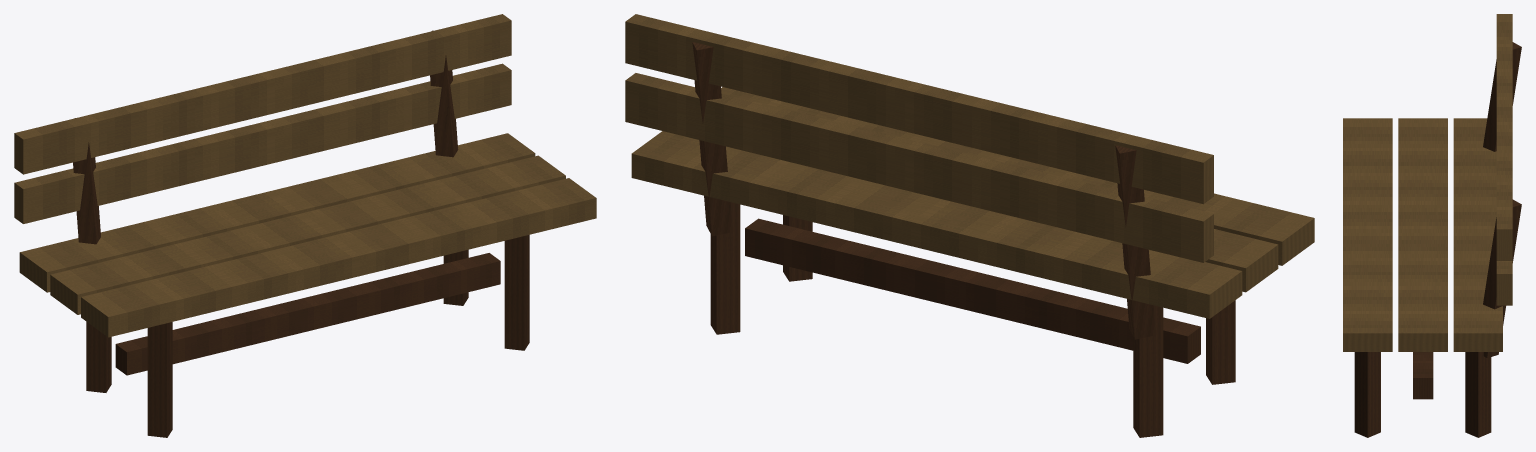
Rendered from level_camp_bench.glb.
3 renders of one model, left to right at view 1: azimuth 30°, elevation 25°; view 2: azimuth 150°, elevation 25°; view 3: azimuth 270°, elevation 25°, orthographic. The views are drawn at different scales.
Visible parts, largest first — view 1: level_camp_bench; view 2: level_camp_bench; view 3: level_camp_bench.
Part boxes in pixels (x1,y1,x2,y2): level_camp_bench: (14, 14, 596, 437); level_camp_bench: (625, 14, 1314, 437); level_camp_bench: (1343, 14, 1521, 437).
Bounding box in the file's own units: 1.75 × 0.88 × 0.6146.
2 materials, 2 textured.
